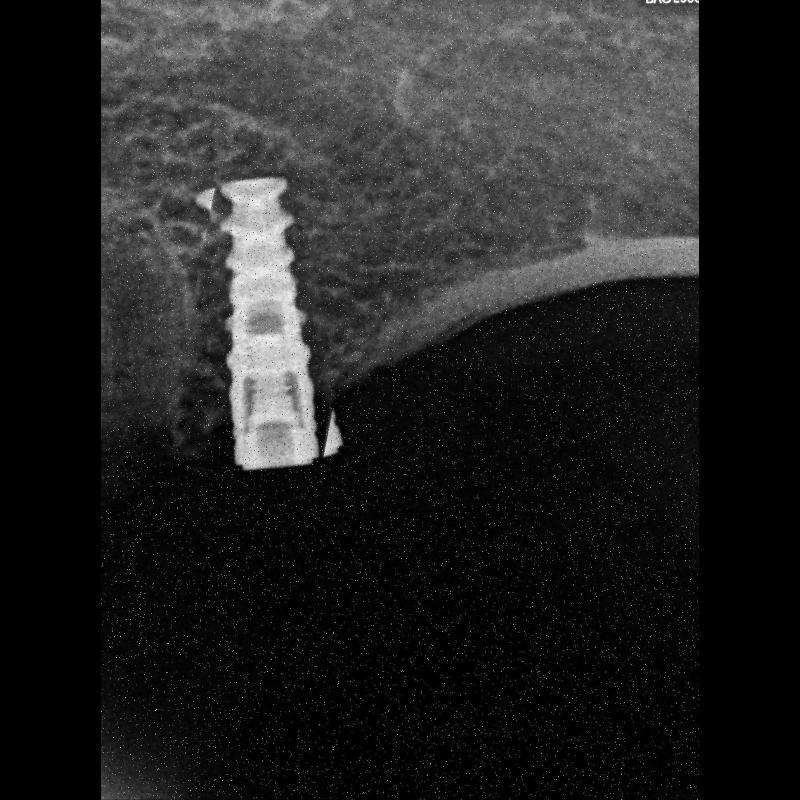ADIN: (176, 167, 361, 485)
